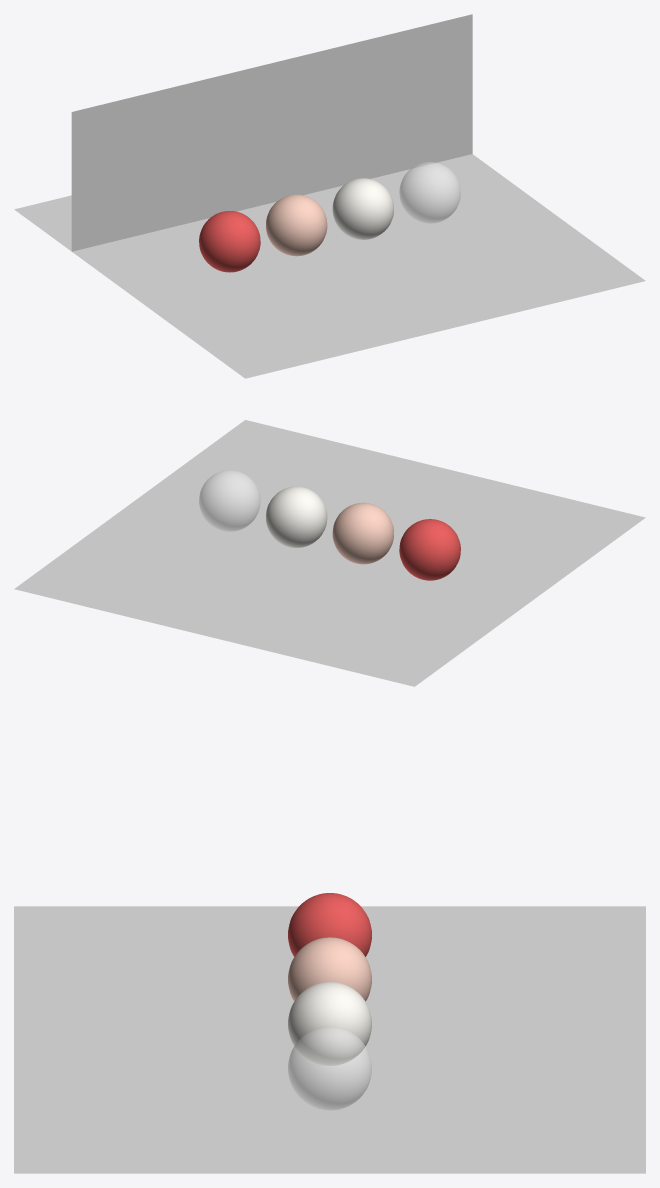
The model's file is mixed_materials.glb.
3 views of the same model, one above another, from view 1: azimuth 30°, elevation 25°; view 2: azimuth 150°, elevation 25°; view 3: azimuth 270°, elevation 25° (orthographic). The views are drawn at different scales.
Parts seen in each view (by area): view 1: Floor, BackWall, PolishedSilver, DiffuseRed, RoughCopper, GlassSphere; view 2: Floor, DiffuseRed, RoughCopper, PolishedSilver, GlassSphere; view 3: Floor, PolishedSilver, GlassSphere, RoughCopper, DiffuseRed.
Boxes of the visible parts, bbox=[...] form: Floor: bbox=[14, 154, 645, 378]; BackWall: bbox=[71, 14, 472, 251]; PolishedSilver: bbox=[332, 178, 393, 239]; DiffuseRed: bbox=[199, 211, 260, 272]; RoughCopper: bbox=[266, 194, 327, 256]; GlassSphere: bbox=[399, 162, 460, 223]; Floor: bbox=[14, 420, 645, 686]; DiffuseRed: bbox=[399, 519, 460, 580]; RoughCopper: bbox=[332, 502, 393, 564]; PolishedSilver: bbox=[266, 486, 327, 547]; GlassSphere: bbox=[199, 470, 260, 531]; Floor: bbox=[14, 906, 645, 1173]; PolishedSilver: bbox=[288, 982, 371, 1065]; GlassSphere: bbox=[288, 1026, 371, 1110]; RoughCopper: bbox=[288, 937, 371, 1001]; DiffuseRed: bbox=[288, 893, 371, 956].
Bounding box in the file's own units: 12 × 4 × 12.
